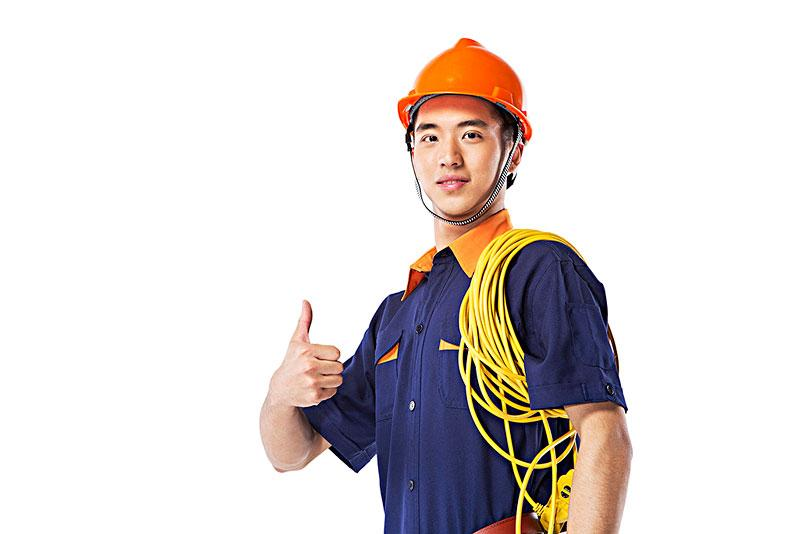helmet: (400, 37, 531, 144)
